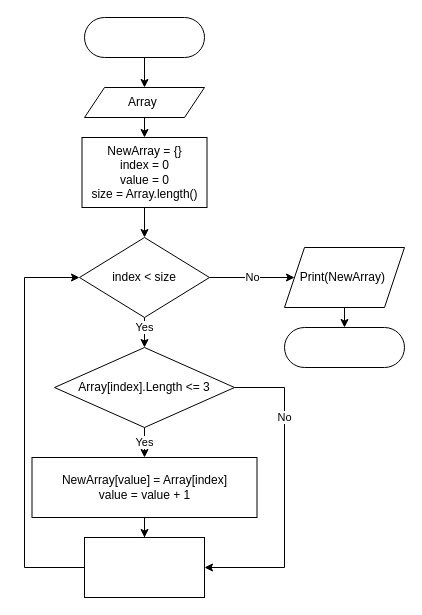
Some shapes in this 422 by 615 pixel diagram are drawn without their labels. Here are the shapes that lost their labels. From the top down, the box of each, then its label:
(84, 16, 204, 58): Start
(284, 326, 404, 368): End
(84, 536, 204, 598): index = index + 1
